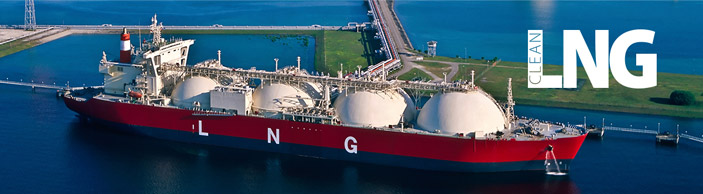Cargoship: (61, 22, 591, 163)
